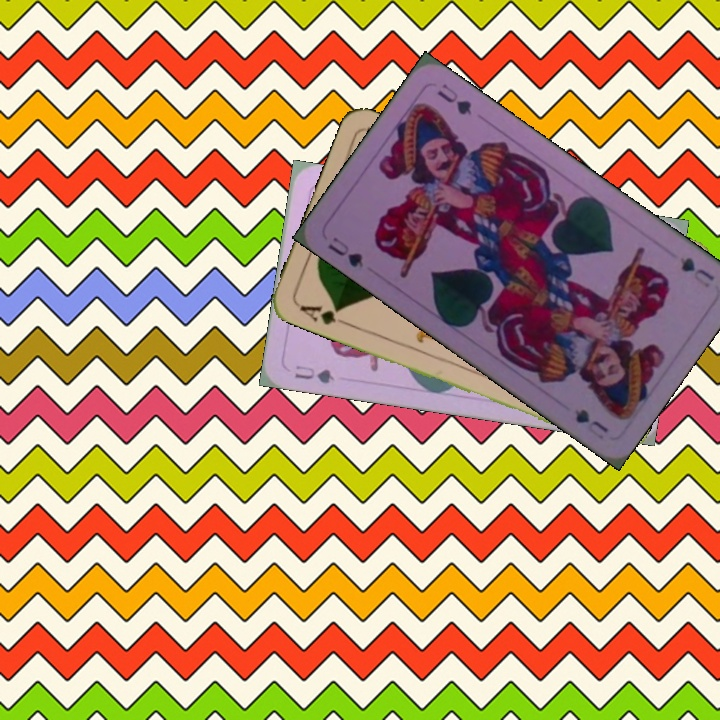GA: (295, 301, 352, 328)
GU: (323, 233, 366, 271), (676, 253, 717, 291), (290, 361, 338, 386)
